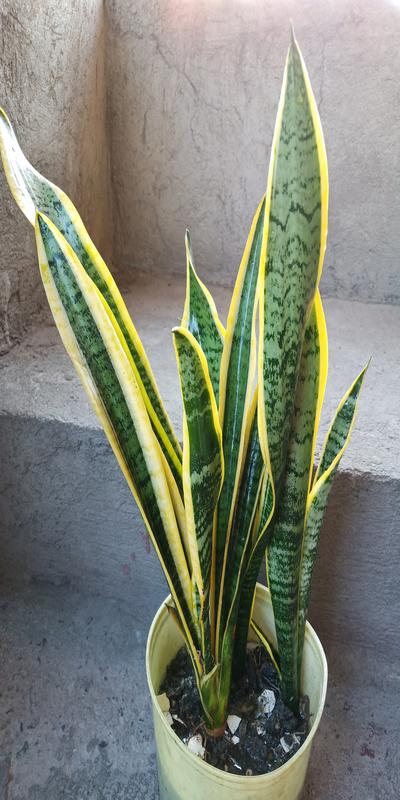Snake plant: (3, 110, 390, 701)
